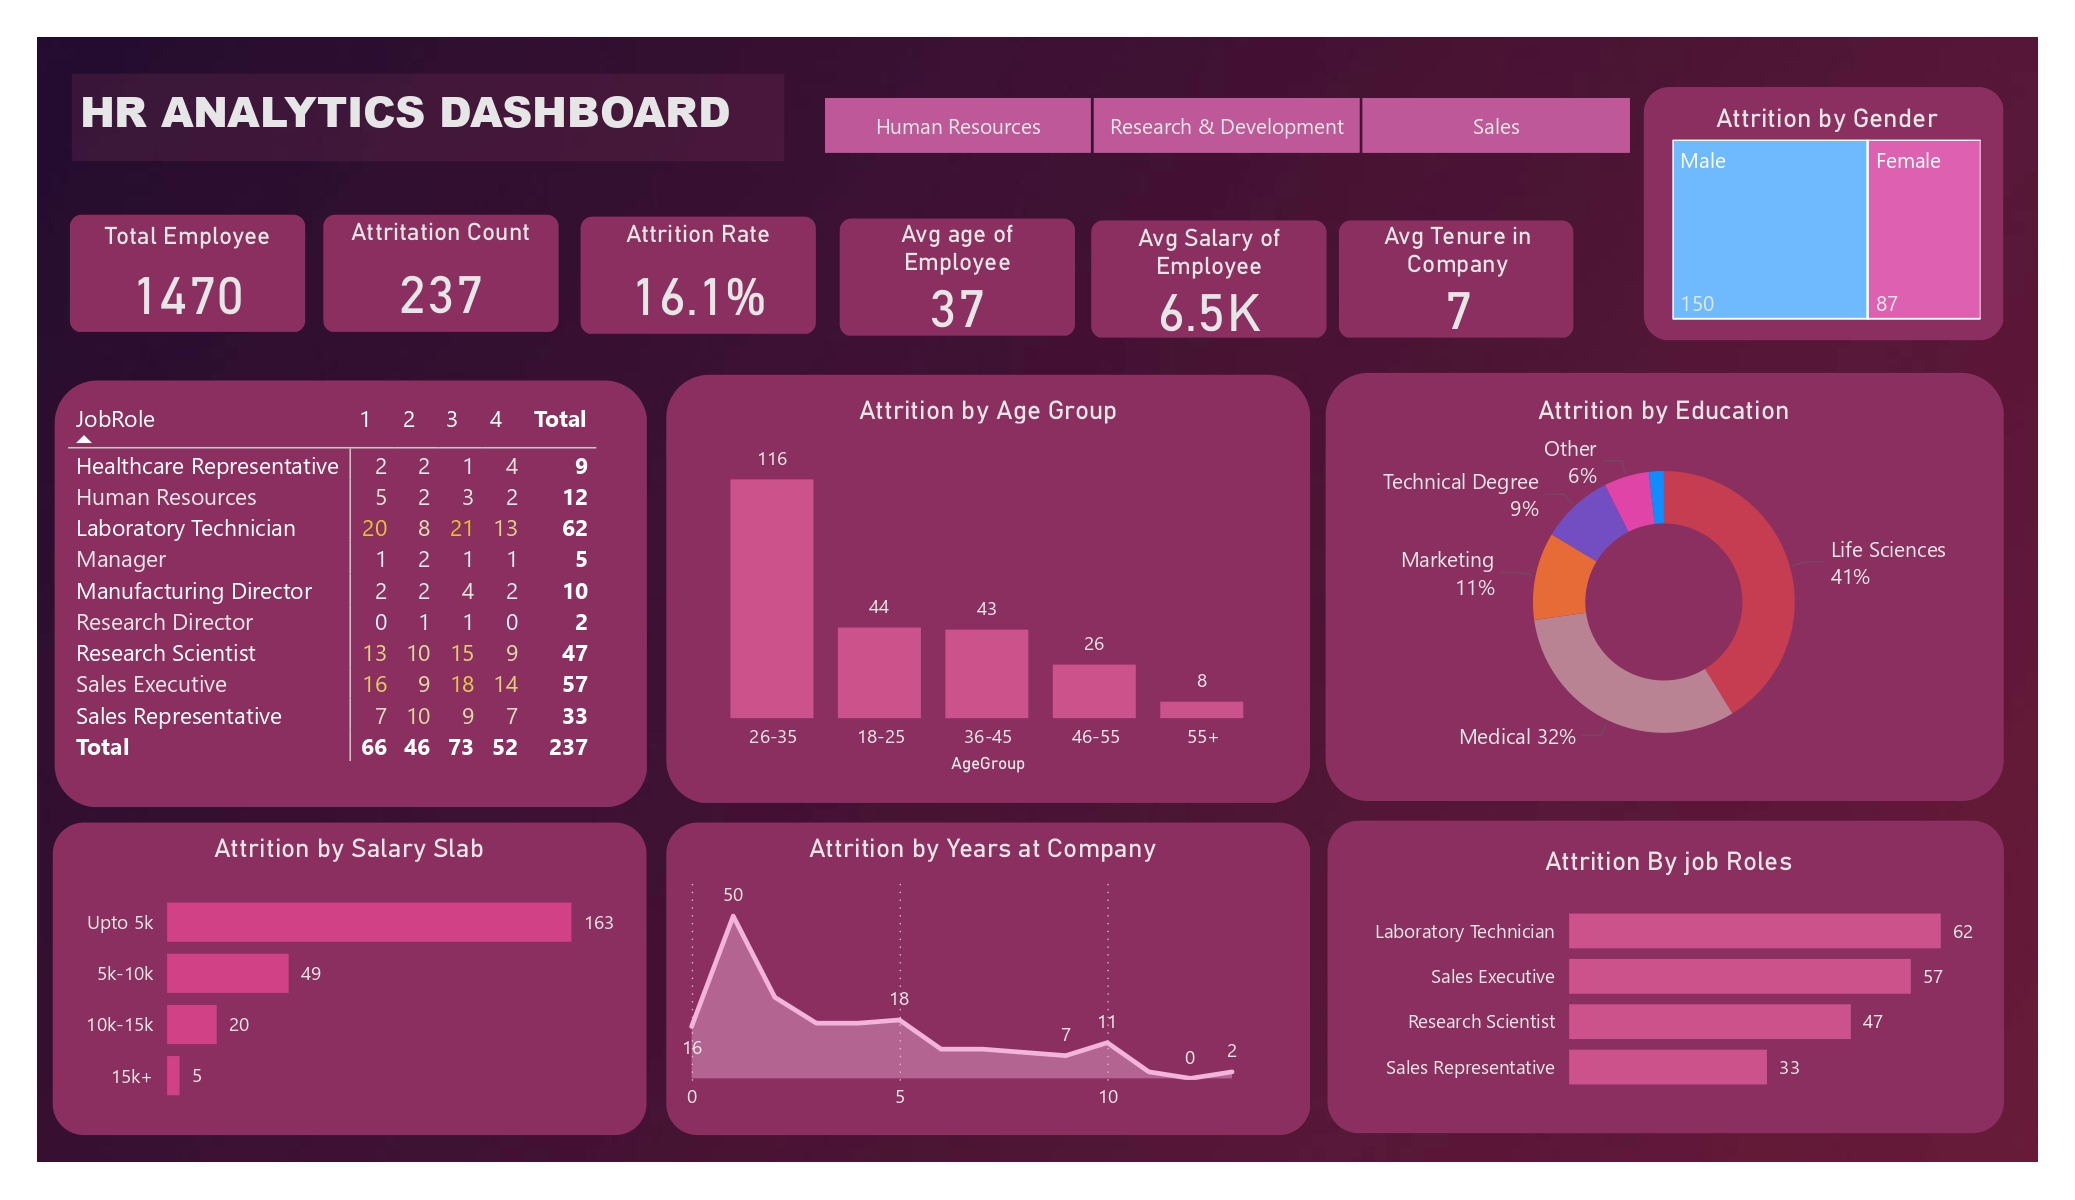

The page's visual inventory and layout, read from the dashboard file:
{"tool":"powerbi","page":{"name":"Page 1","canvas":[1280,720],"ordinal":0},"visuals":[{"type":"shape","box":[1028,31.7,230.5,162.2],"z":0},{"type":"shape","box":[402.4,502.4,412.2,200],"z":2000},{"type":"shape","box":[825.6,501.2,432.9,200],"z":3000},{"type":"shape","box":[9.4,502.5,380,200],"z":4000},{"type":"shape","box":[824.4,214.6,434.1,274],"z":5000},{"type":"shape","box":[402.4,215.9,412.2,274.4],"z":6000},{"type":"shape","box":[347.1,114.9,150.6,75.3],"z":7000},{"type":"shape","box":[512.9,116.3,150.6,75.3],"z":8000},{"type":"shape","box":[673.8,117.2,150.6,75.3],"z":9000},{"type":"shape","box":[832.4,117.1,150,75.3],"z":10000},{"type":"shape","box":[182.4,113.9,150.6,75.3],"z":11000},{"type":"shape","box":[21.2,113.9,150.6,75.3],"z":12000},{"type":"card","title":"Attritation Count","fields":{"Values":["Sum(HR_Analytics.AttritionCount)"]},"box":[182.4,115.1,150.6,75.3],"z":13000},{"type":"card","title":"Attrition Rate","fields":{"Values":["HR_Analytics.AttritionRate"]},"box":[347.1,116.1,150.6,75.3],"z":14000},{"type":"card","title":"Avg age of Employee","fields":{"Values":["Avg(HR_Analytics.Age)"]},"box":[512.9,116.3,150.6,75.3],"z":15000},{"type":"card","title":"Avg Salary of Employee","fields":{"Values":["Avg(HR_Analytics.MonthlyIncome)"]},"box":[673.9,118.6,150.9,75.5],"z":16000},{"type":"card","title":"Avg Tenure in Company","fields":{"Values":["Avg(HR_Analytics.YearsAtCompany)"]},"box":[840.6,117.1,137.6,75.3],"z":17000},{"type":"shape","box":[11,219.5,379.3,273.2],"z":18000},{"type":"donutChart","title":" Attrition by Education","fields":{"Category":["HR_Analytics.EducationField"],"Y":["CountNonNull(HR_Analytics.Attrition)"]},"box":[828,228,425.6,247.6],"z":19000},{"type":"card","title":"Total Employee","fields":{"Values":["CountNonNull(HR_Analytics.EmpID)"]},"box":[21.2,117.5,150.6,71.8],"z":20000},{"type":"columnChart","title":" Attrition by Age Group","fields":{"Category":["HR_Analytics.AgeGroup"],"Y":["Sum(HR_Analytics.AttritionCount)"]},"box":[411,228,395.1,247.6],"z":21000},{"type":"pivotTable","fields":{"Rows":["HR_Analytics.JobRole"],"Columns":["HR_Analytics.JobSatisfaction"],"Values":["Sum(HR_Analytics.AttritionCount)"]},"box":[14.6,228,361,245.1],"z":22000},{"type":"barChart","title":" Attrition by Salary Slab","fields":{"Category":["HR_Analytics.SalarySlab"],"Y":["Sum(HR_Analytics.AttritionCount)"]},"box":[22,508.5,354.9,187.8],"z":23000},{"type":"barChart","title":"Attrition By job Roles","fields":{"Category":["HR_Analytics.JobRole"],"Y":["Sum(HR_Analytics.AttritionCount)"]},"box":[840.2,517.1,407.3,170.7],"z":24000},{"type":"areaChart","title":"Attrition by Years at Company","fields":{"Y":["Sum(HR_Analytics.AttritionCount)"],"Category":["HR_Analytics.YearsAtCompany"]},"box":[403.7,508.5,402.4,187.8],"z":25000},{"type":"treemap","title":" Attrition by Gender","fields":{"Group":["HR_Analytics.Gender"],"Values":["Sum(HR_Analytics.AttritionCount)"]},"box":[1041.5,41.5,207.3,143.9],"z":26000},{"type":"slicer","fields":{"Values":["HR_Analytics.Department"]},"box":[478,31.7,564.6,48.8],"z":27000},{"type":"textbox","box":[22,23.2,456.1,56.1],"z":28000}]}

Visuals, with their boxes in screenshot pixels (x1, y1, x2, y2):
shape: pyautogui.locateOnScreen(1644, 87, 2004, 340)
shape: pyautogui.locateOnScreen(666, 822, 1310, 1135)
shape: pyautogui.locateOnScreen(1328, 821, 2004, 1133)
shape: pyautogui.locateOnScreen(52, 823, 646, 1135)
shape: pyautogui.locateOnScreen(1326, 373, 2004, 801)
shape: pyautogui.locateOnScreen(666, 375, 1310, 804)
shape: pyautogui.locateOnScreen(580, 217, 815, 335)
shape: pyautogui.locateOnScreen(839, 219, 1074, 337)
shape: pyautogui.locateOnScreen(1090, 221, 1326, 338)
shape: pyautogui.locateOnScreen(1338, 220, 1572, 338)
shape: pyautogui.locateOnScreen(322, 215, 558, 333)
shape: pyautogui.locateOnScreen(71, 215, 306, 333)
"Attritation Count" card: pyautogui.locateOnScreen(322, 217, 558, 335)
"Attrition Rate" card: pyautogui.locateOnScreen(580, 219, 815, 337)
"Avg age of Employee" card: pyautogui.locateOnScreen(839, 219, 1074, 337)
"Avg Salary of Employee" card: pyautogui.locateOnScreen(1090, 223, 1326, 341)
"Avg Tenure in Company" card: pyautogui.locateOnScreen(1351, 220, 1566, 338)
shape: pyautogui.locateOnScreen(55, 380, 647, 807)
" Attrition by Education" donutChart: pyautogui.locateOnScreen(1331, 394, 1996, 781)
"Total Employee" card: pyautogui.locateOnScreen(71, 221, 306, 333)
" Attrition by Age Group" columnChart: pyautogui.locateOnScreen(680, 394, 1297, 781)
pivotTable - HR_Analytics.JobRole x HR_Analytics.JobSatisfaction: pyautogui.locateOnScreen(60, 394, 624, 777)
" Attrition by Salary Slab" barChart: pyautogui.locateOnScreen(72, 832, 626, 1125)
"Attrition By job Roles" barChart: pyautogui.locateOnScreen(1350, 845, 1987, 1112)
"Attrition by Years at Company" areaChart: pyautogui.locateOnScreen(668, 832, 1297, 1125)
" Attrition by Gender" treemap: pyautogui.locateOnScreen(1665, 102, 1989, 327)
slicer - HR_Analytics.Department: pyautogui.locateOnScreen(784, 87, 1667, 163)
textbox: pyautogui.locateOnScreen(72, 74, 785, 161)
